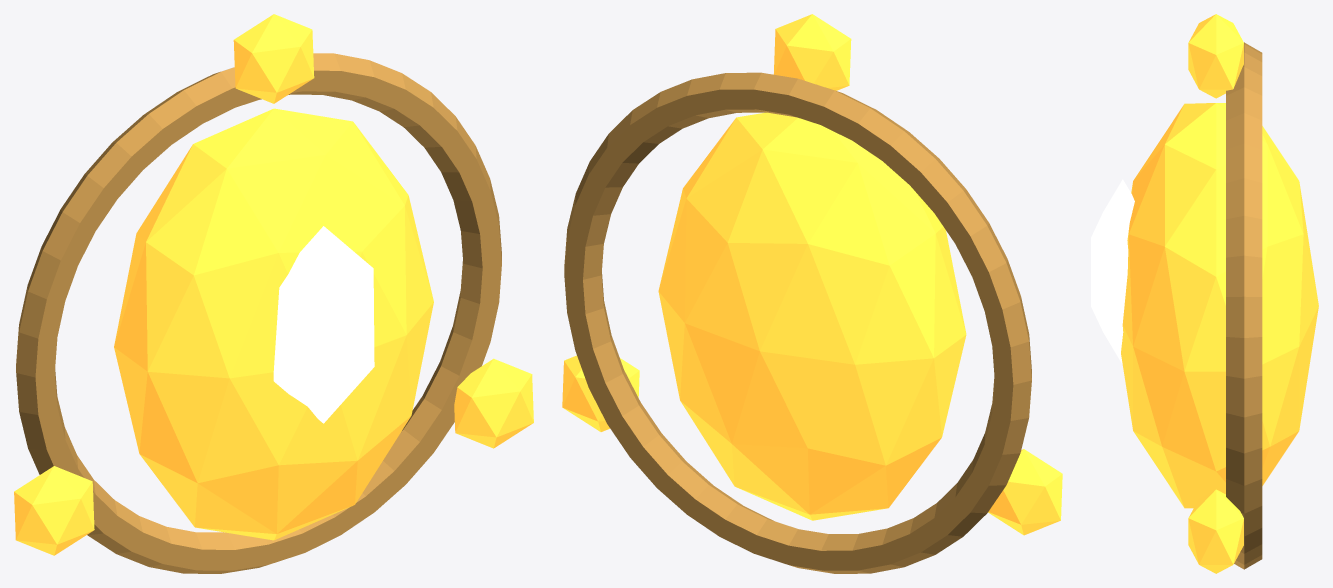
File: ember.glb
3 views of the same model, side by side, from view 1: azimuth 30°, elevation 25°; view 2: azimuth 150°, elevation 25°; view 3: azimuth 270°, elevation 25° (orthographic). The views are drawn at different scales.
Visible parts, largest first — view 1: Core.004, Crown.001, Heart, Spark2, Spark0, Spark1; view 2: Core.004, Crown.001, Spark0, Spark2, Spark1; view 3: Core.004, Crown.001, Heart, Spark0, Spark1.
Part boxes in pixels (left/top/right/bottom): Core.004: left=114, top=108, right=433, bottom=540; Crown.001: left=16, top=53, right=501, bottom=573; Heart: left=273, top=226, right=374, bottom=423; Spark2: left=14, top=466, right=94, bottom=555; Spark0: left=233, top=14, right=314, bottom=103; Spark1: left=454, top=358, right=533, bottom=448; Core.004: left=658, top=112, right=966, bottom=520; Crown.001: left=564, top=72, right=1031, bottom=573; Spark0: left=773, top=14, right=851, bottom=90; Spark2: left=988, top=449, right=1062, bottom=535; Spark1: left=562, top=355, right=639, bottom=431; Core.004: left=1121, top=103, right=1318, bottom=508; Crown.001: left=1226, top=42, right=1262, bottom=569; Heart: left=1091, top=179, right=1134, bottom=364; Spark0: left=1188, top=14, right=1243, bottom=98; Spark1: left=1188, top=489, right=1243, bottom=573.
Size of the model in its own units: 1.2 by 1.25 by 0.4881.
